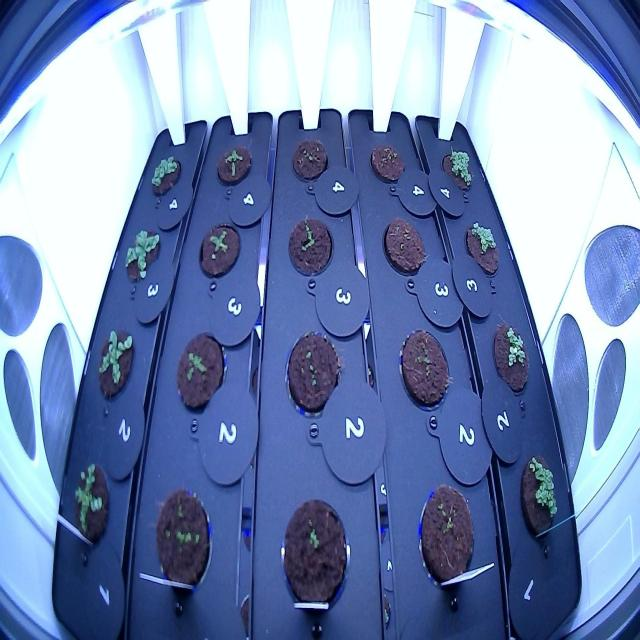germination: (279, 494, 350, 623), (152, 481, 214, 605), (282, 326, 344, 430), (172, 323, 228, 422), (518, 448, 562, 552), (282, 210, 338, 279), (70, 457, 112, 549), (94, 324, 138, 404), (192, 220, 245, 284), (121, 217, 166, 291), (490, 318, 531, 396), (459, 216, 501, 281), (213, 139, 254, 192), (146, 148, 186, 202), (439, 143, 476, 193)
pod: (415, 476, 479, 603), (394, 319, 452, 420), (379, 210, 429, 282), (287, 132, 331, 185), (365, 139, 409, 187)
